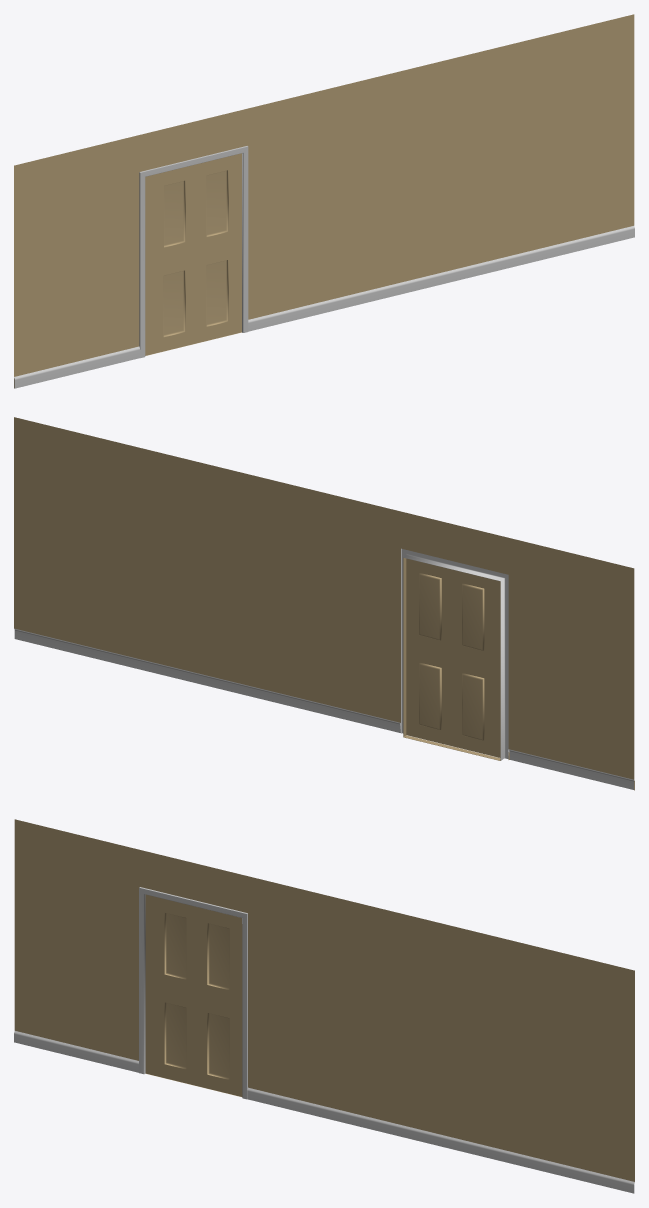
File: door wall.FBX
3 views of the same model, one above another, from view 1: azimuth 30°, elevation 25°; view 2: azimuth 150°, elevation 25°; view 3: azimuth 330°, elevation 25° (orthographic).
Parts seen in each view (by area): view 1: Wall3; view 2: Wall3; view 3: Wall3.
Part boxes in pixels (bbox=[...]): Wall3: bbox=[14, 14, 634, 388]; Wall3: bbox=[14, 417, 634, 790]; Wall3: bbox=[14, 819, 634, 1193].
Bounding box in the file's own units: 7000 × 2400 × 76.05.
